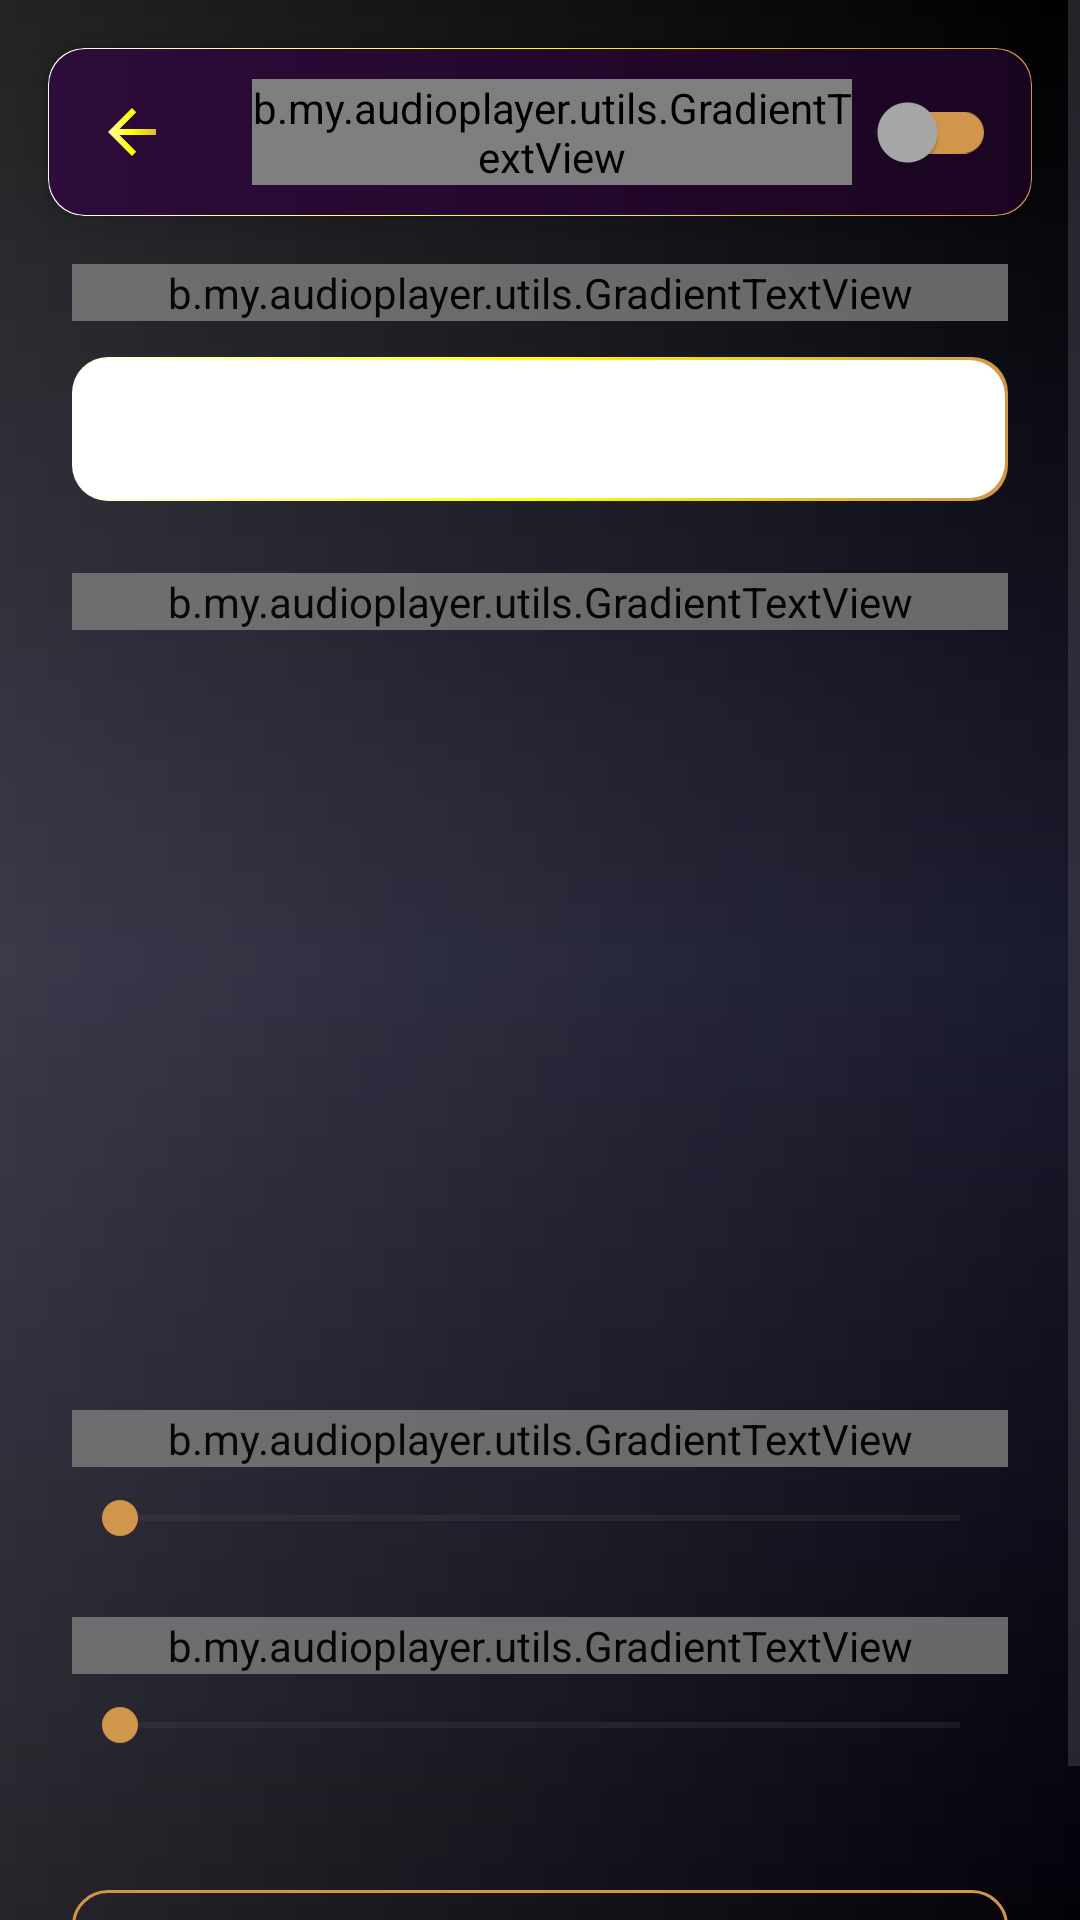

Icon click points for this 1080*1920 phone screenshot, format point (x, y):
arrow back: point (132, 132)
